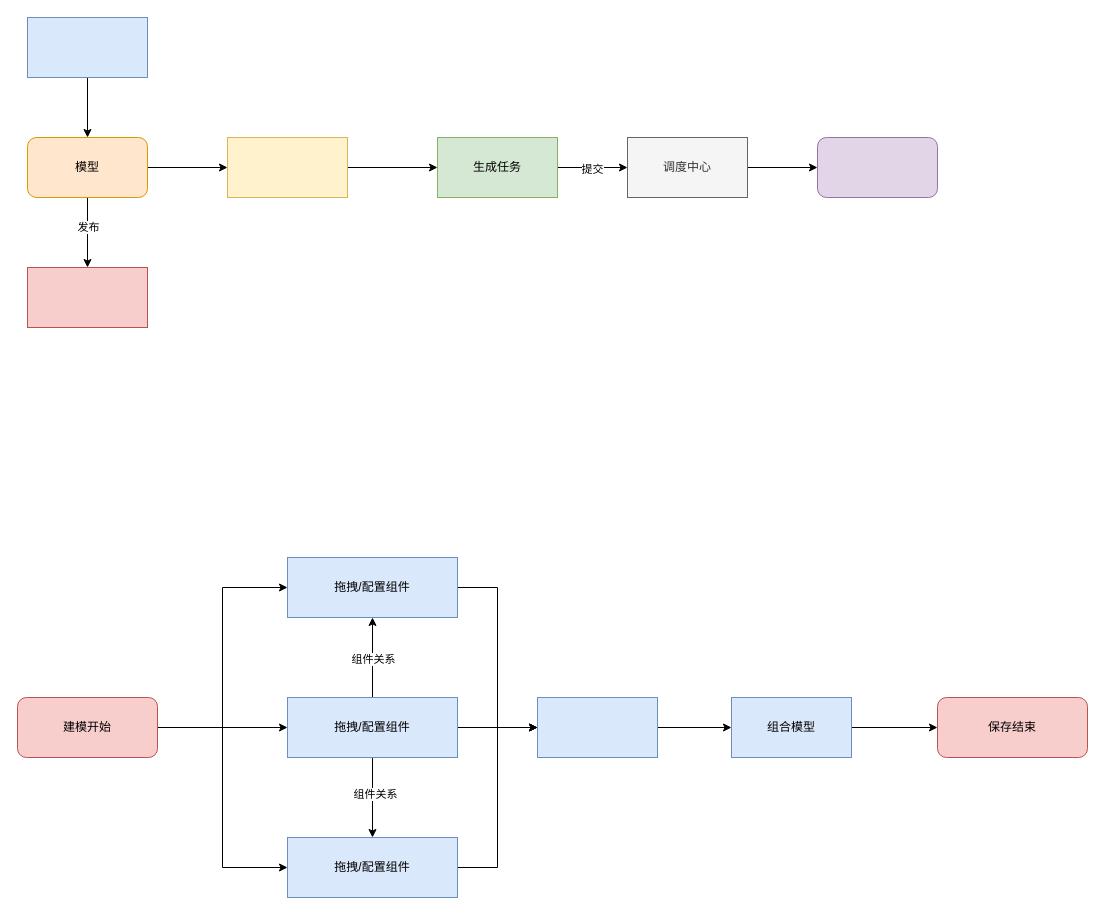
The diagram is 1105 pixels wide and 915 high, and some of its shapes have lost their labels. The centre of each missing label's shape, as x and y in pixels:
"提取参数" belongs at [597,727].
"标签" belongs at [87,47].
"模型管理中心" belongs at [87,297].
"结果" belongs at [877,167].
"输入参数" belongs at [287,167].
